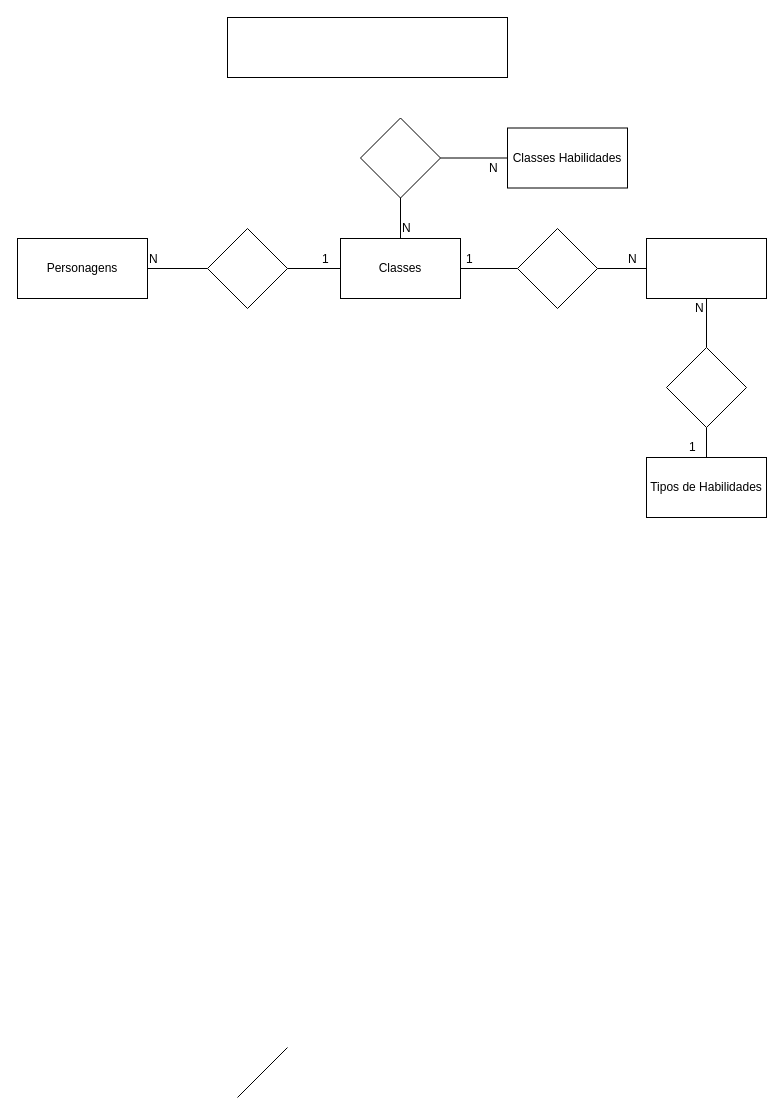
This 784x1116 diagram has some shape labels left out. The centre of each missing label's shape, as x and y in pixels:
Habilidades: point 706,268
Modelo Conceitual: point 367,47
